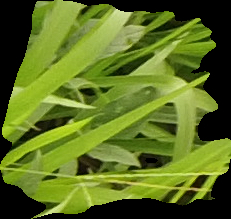grass: (1, 1, 230, 217)
